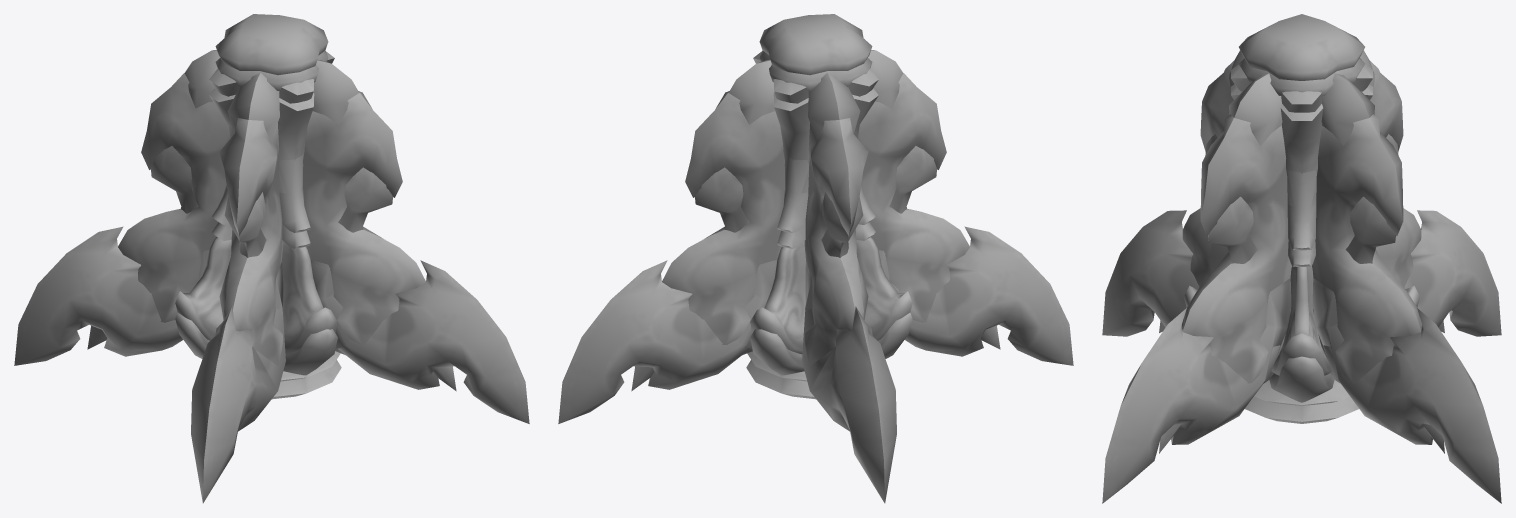
Rendered from zhexingcuishan_source_variant_input_04.glb.
The picture shows the model from 3 angles, left to right: view 1: azimuth 30°, elevation 25°; view 2: azimuth 150°, elevation 25°; view 3: azimuth 270°, elevation 25°; orthographic projection. The views are drawn at different scales.
Visible parts, largest first — view 1: wp_saber_xingtian; view 2: wp_saber_xingtian; view 3: wp_saber_xingtian.
Boxes of the visible parts, bbox=[...] form: wp_saber_xingtian: bbox=[14, 14, 529, 503]; wp_saber_xingtian: bbox=[558, 14, 1073, 503]; wp_saber_xingtian: bbox=[1102, 14, 1501, 503].
Bounding box in the file's own units: 0.1798 × 0.1933 × 0.1798.
Materials: 1 (1 with a texture image).
